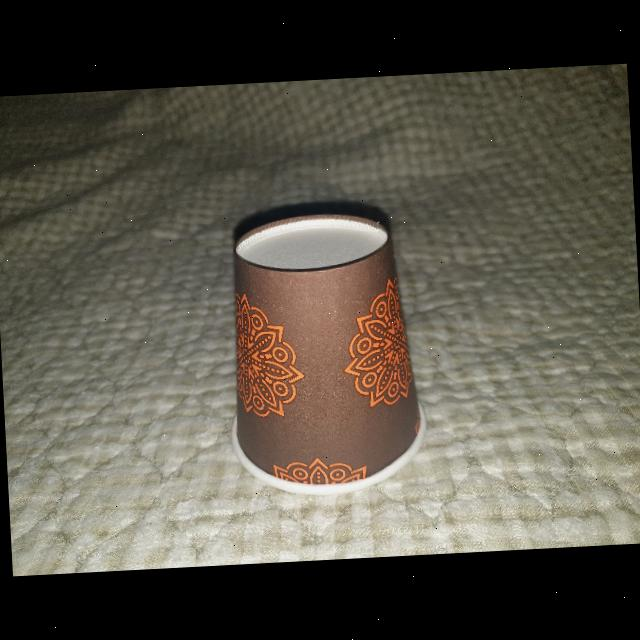trash: (214, 205, 431, 500)
